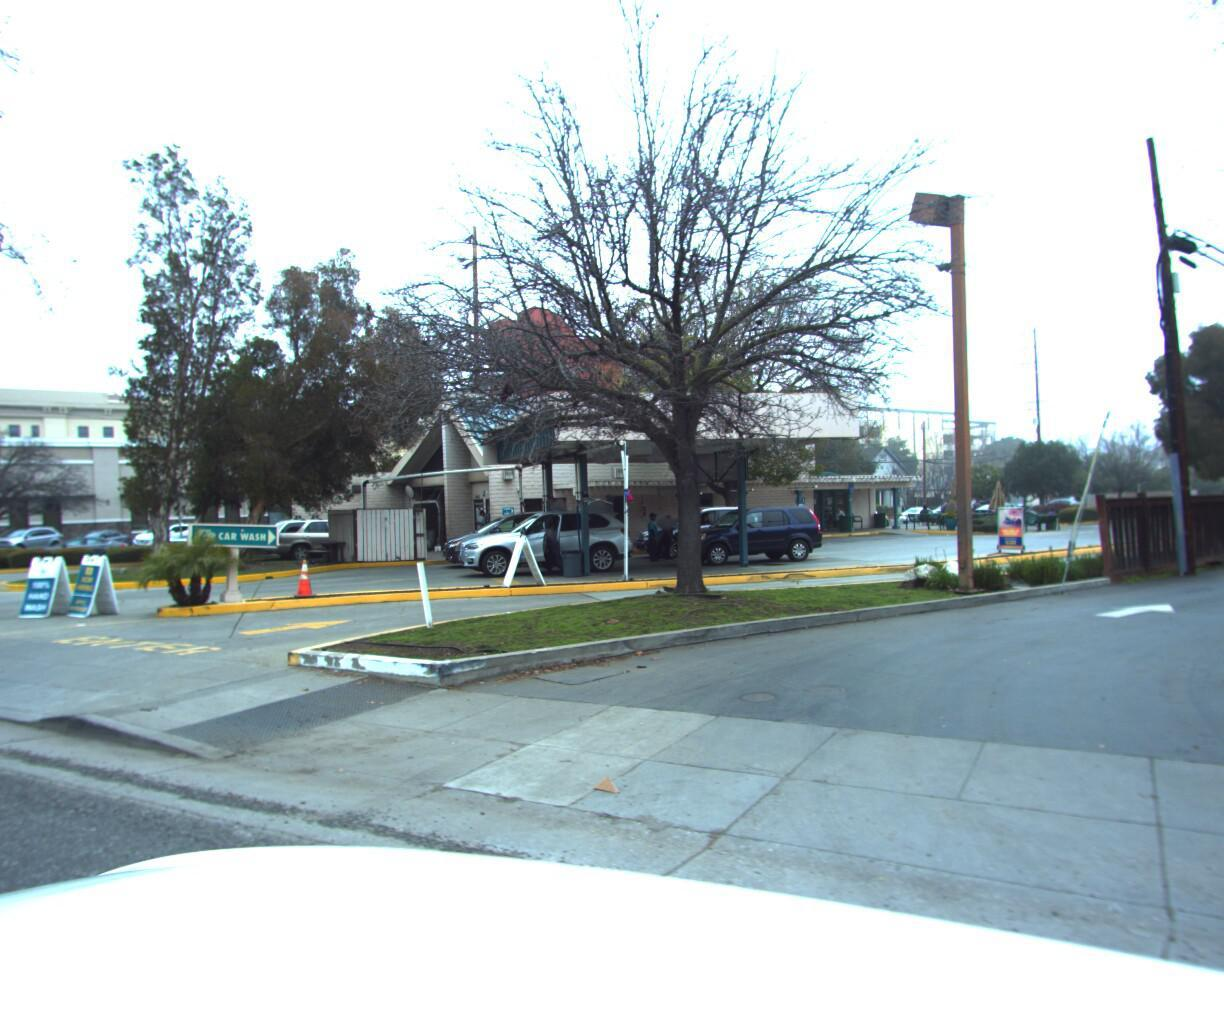car: (255, 504, 387, 559), (22, 525, 134, 560), (0, 519, 72, 552), (128, 514, 204, 542), (896, 499, 946, 516)
